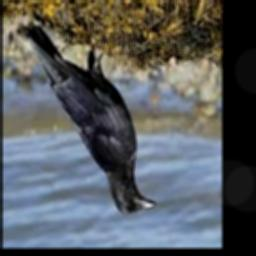Crow: (22, 23, 155, 215)
